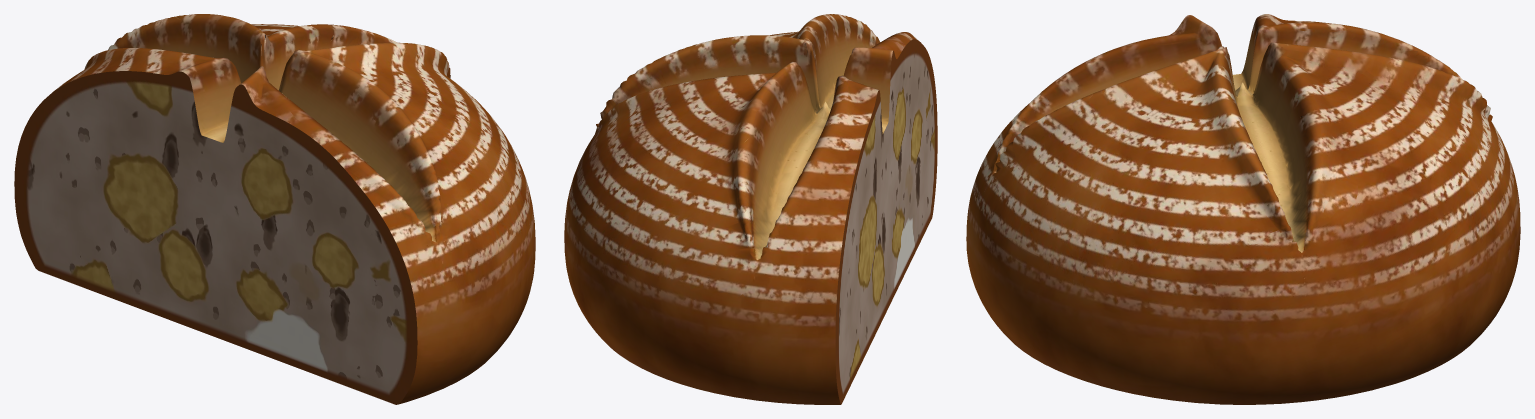
Rendered from campagne--chestnut-piece.glb.
3 views of the same model, side by side, from view 1: azimuth 30°, elevation 25°; view 2: azimuth 150°, elevation 25°; view 3: azimuth 270°, elevation 25° (orthographic). The views are drawn at different scales.
Parts seen in each view (by area): view 1: campagne_chestnut-piece; view 2: campagne_chestnut-piece; view 3: campagne_chestnut-piece.
Boxes of the visible parts, x1,y1,x2,y2 form: campagne_chestnut-piece: (14,14,535,404); campagne_chestnut-piece: (564,14,937,404); campagne_chestnut-piece: (966,14,1520,404).
Size of the model in its own units: 0.7649 by 0.5302 by 0.9975.
Materials: 1 (1 with a texture image).
